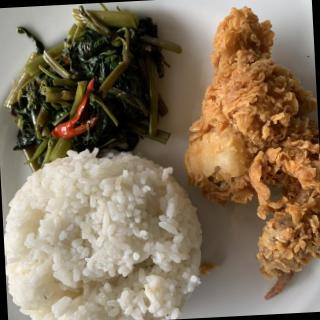Nasi: (1, 145, 207, 320)
